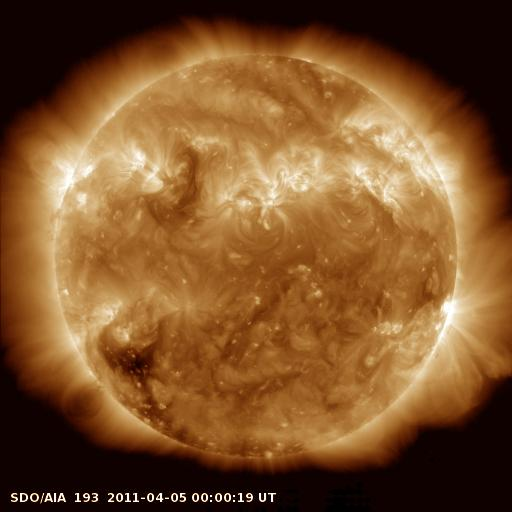coronal_hole: (94, 327, 195, 442)
